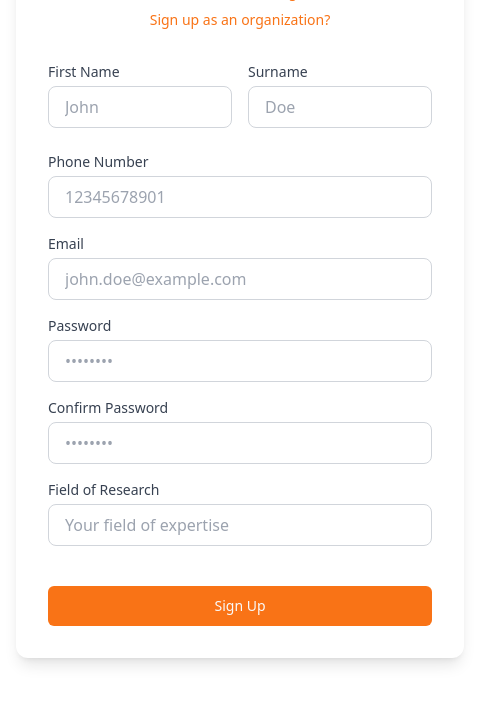
SignUp Form › should display validation error if required fields are missing
(page scrolled)
What coordinates should you click on to do the following:
click the button "Sign Up"
I would click on:
 (240, 606)
Its box is [48,586,432,626].
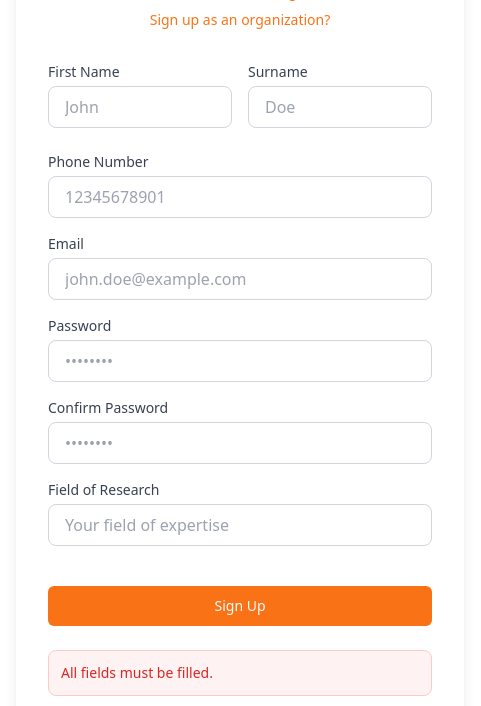
Check: the message with test id "error-message" shows "All fields must be filled", box [61,663,213,682]
